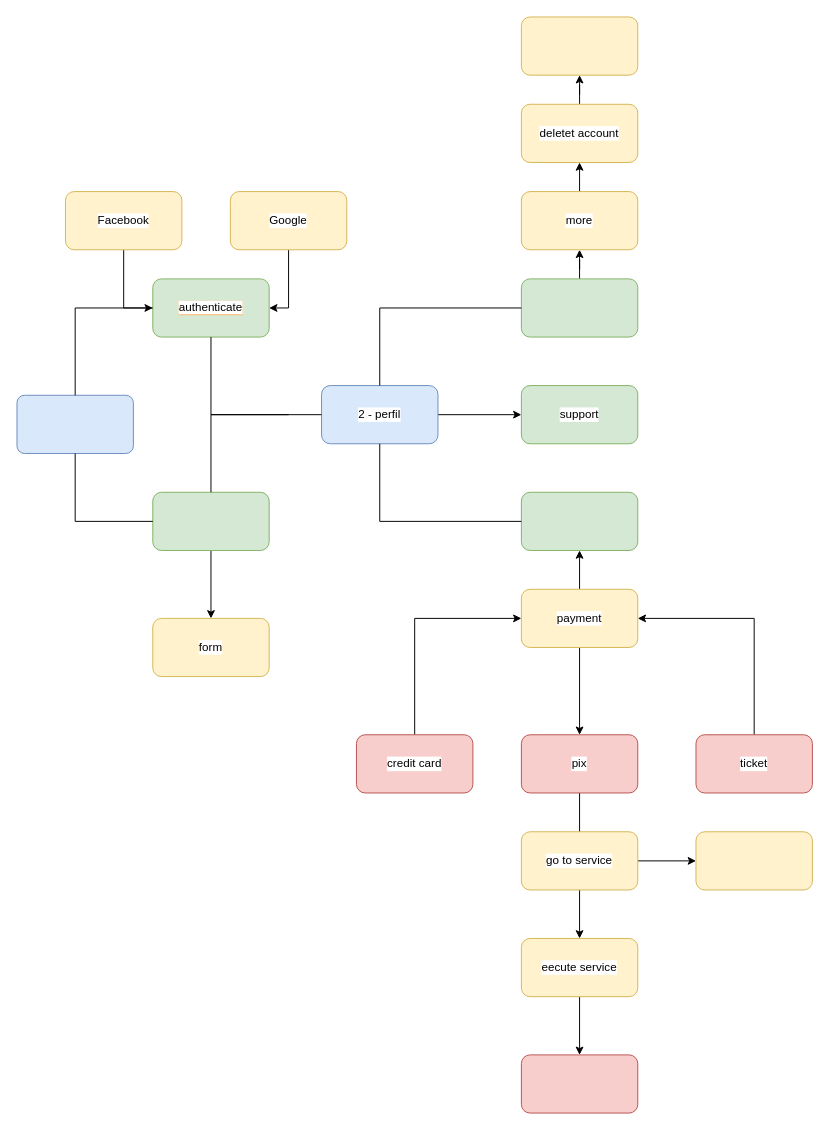
Some shapes in this 829 by 1130 pixel diagram are drawn without their labels. Each missing label, with the centre of its shape:
1 - users: point 74,423
chat: point 753,860
classificate: point 579,1083
configuration: point 579,307
edit account: point 579,45
registration: point 210,520
search services: point 579,520
